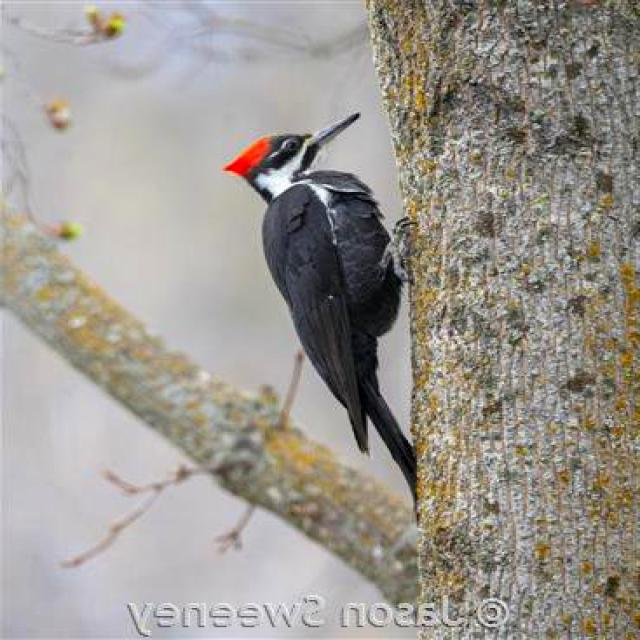woodpecker: (225, 114, 417, 501)
